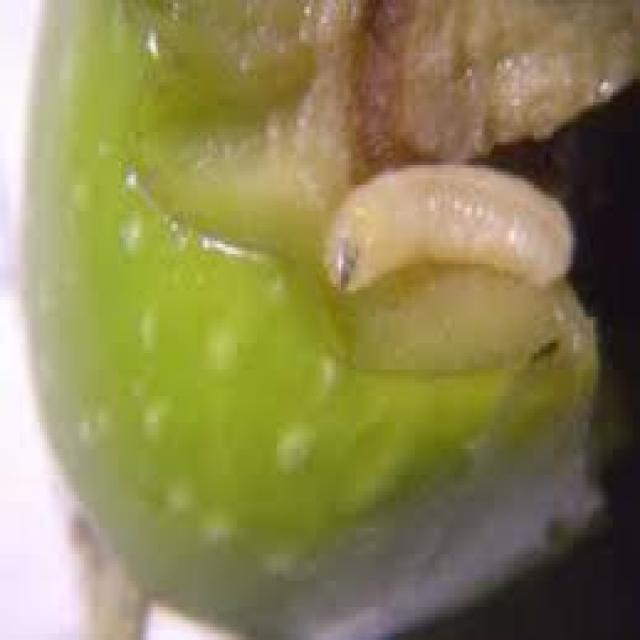Olive Fruit Fly: (32, 0, 635, 637)
